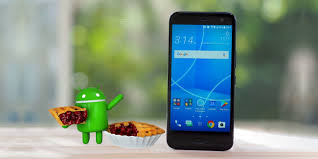htc: (166, 9, 237, 152)
